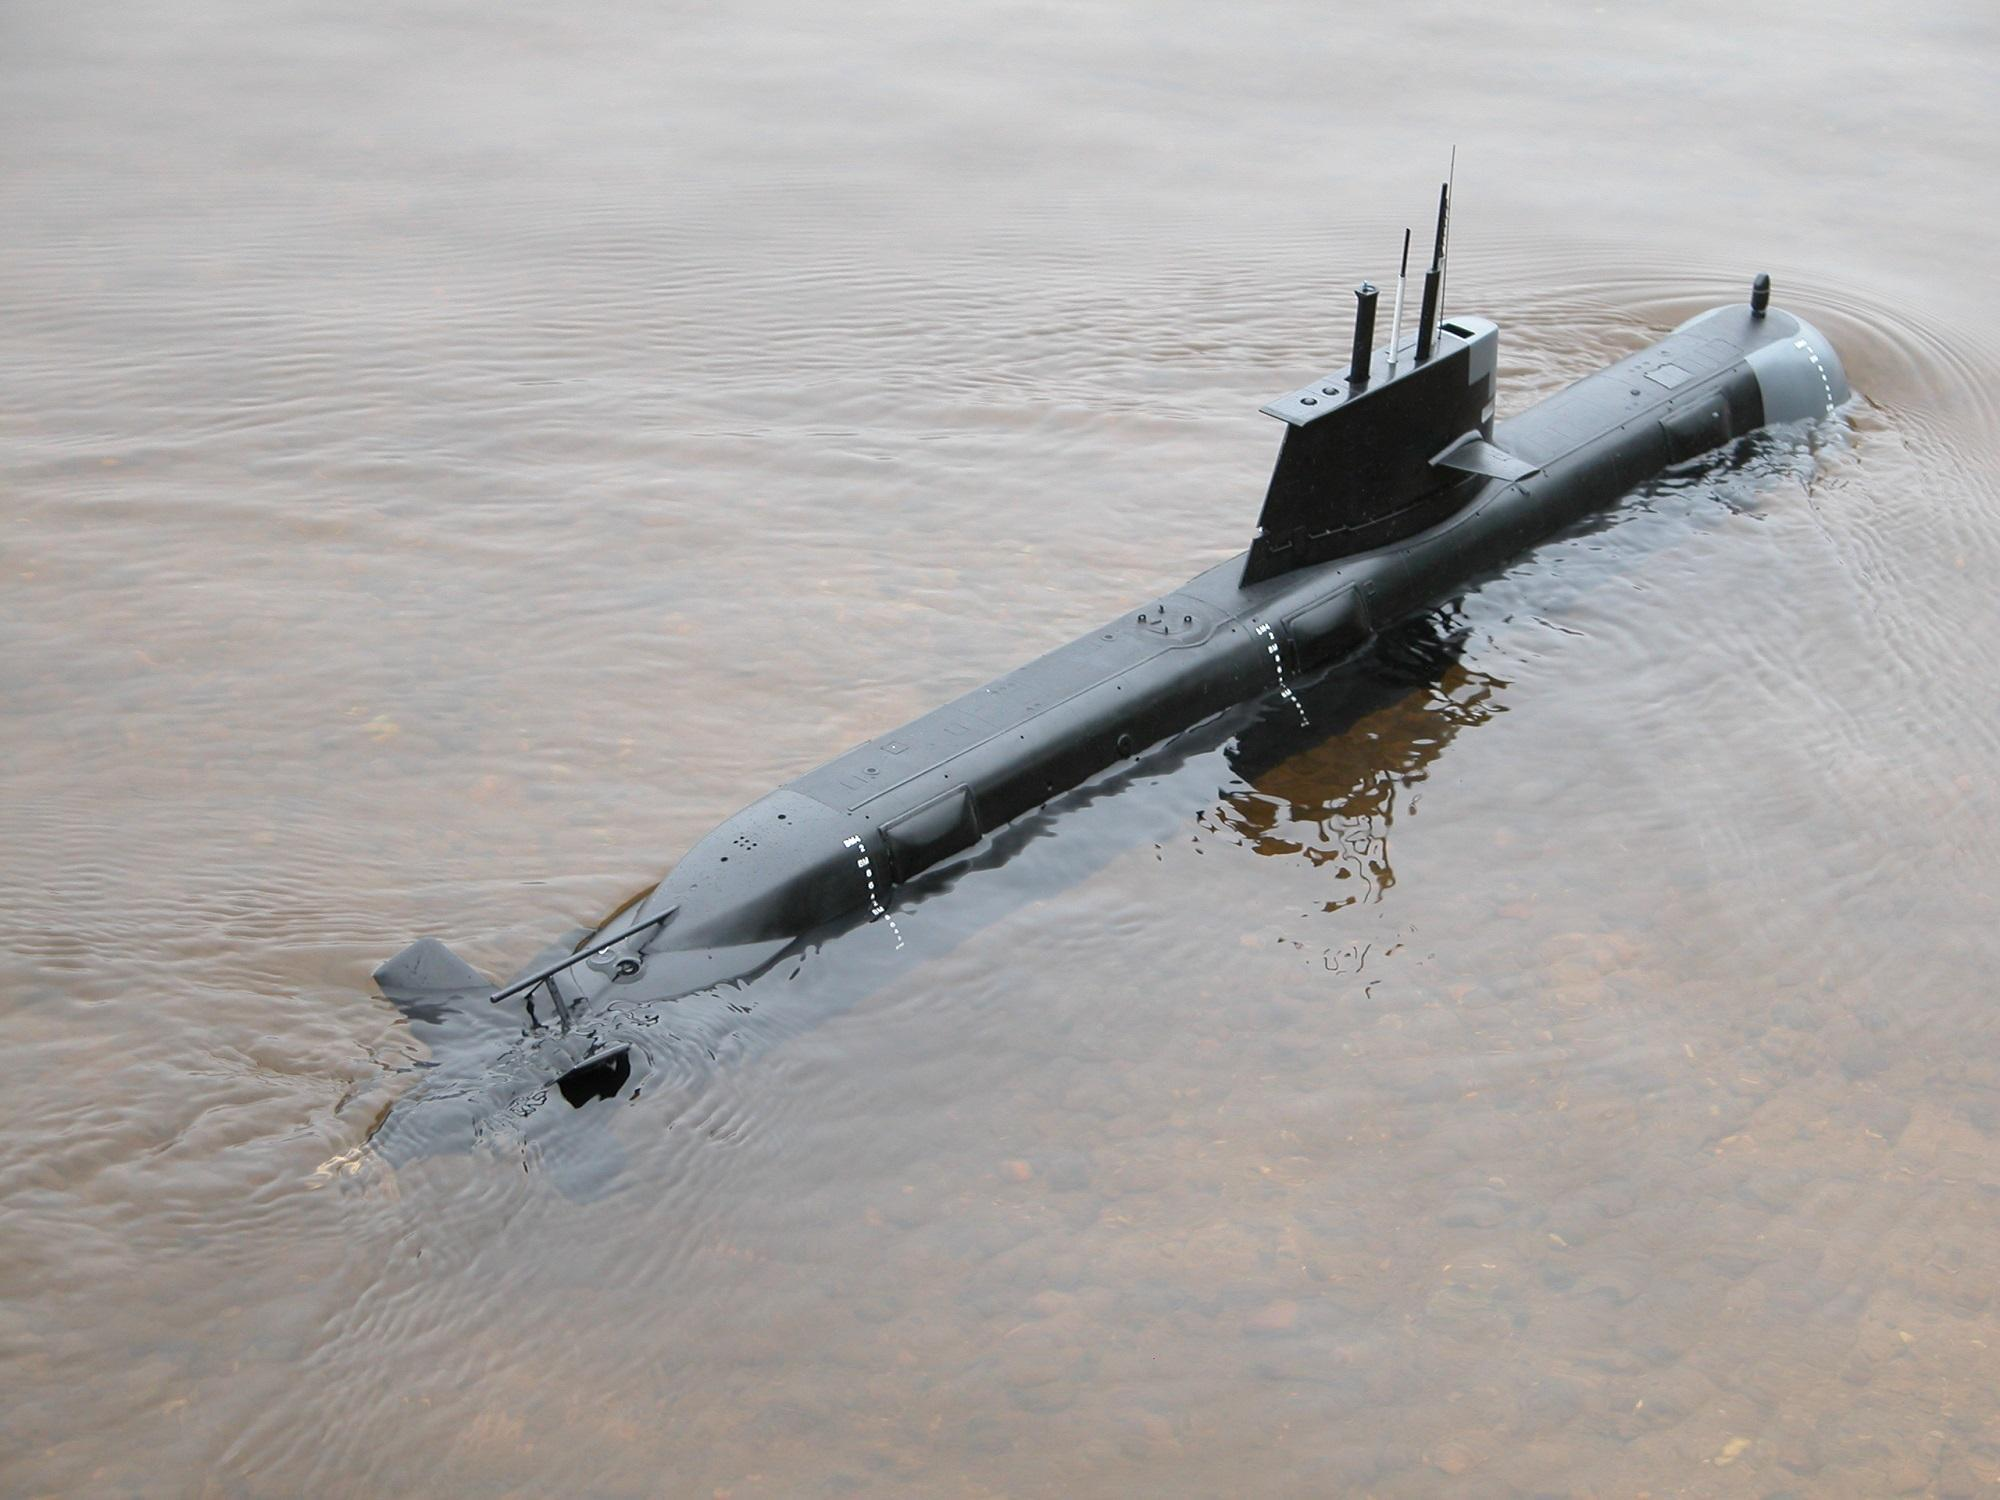Submarine: (153, 84, 2000, 1317)
